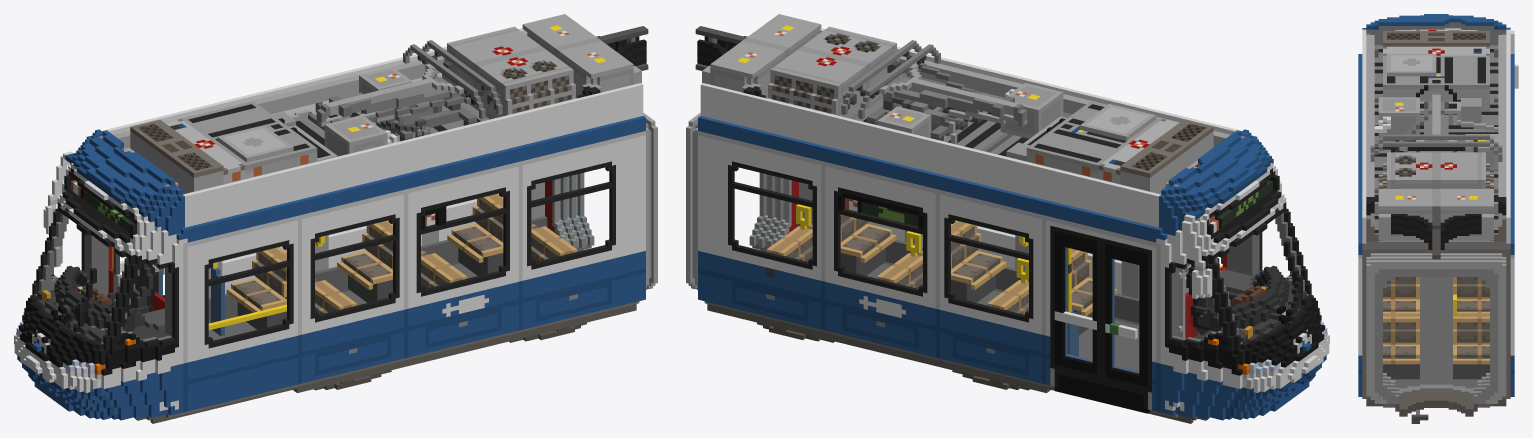
Rendered from cobra1.obj.
The picture shows the model from 3 angles, left to right: view 1: azimuth 30°, elevation 25°; view 2: azimuth 150°, elevation 25°; view 3: azimuth 270°, elevation 25°; orthographic projection. The views are drawn at different scales.
Visible parts, largest first — view 1: FRAME, INTERIOR_LCG_il_LINVERT_GLOBAL, WIDGET_31_TL_1.9375_Y_CG_panto_LABEL_Pantograph, WIDGET_32_TL_1.9375_Y_CG_panto_LABEL_Pantograph, WIDGET_34_CG_panto_LABEL_Pantograph, WIDGET_33_TL_1.9375_Y_CG_panto_LABEL_Pantograph, WIDGET_3_TL_-0.25_Z_LABEL_Mirror, display_3_INTERIOR; view 2: FRAME, INTERIOR_LCG_il_LINVERT_GLOBAL, DOOR_12_CG_d1_TL_0.625_X_TL_-0.1875_Z, DOOR_11_CG_d1_TL_-0.625_X_TL_-0.1875_Z, WIDGET_31_TL_1.9375_Y_CG_panto_LABEL_Pantograph, WIDGET_11_CG_d1, WIDGET_32_TL_1.9375_Y_CG_panto_LABEL_Pantograph, WIDGET_34_CG_panto_LABEL_Pantograph, WIDGET_3_TL_-0.25_Z_LABEL_Mirror, display_3_INTERIOR, display_INTERIOR; view 3: FRAME, INTERIOR_LCG_il_LINVERT_GLOBAL, WIDGET_31_TL_1.9375_Y_CG_panto_LABEL_Pantograph, WIDGET_34_CG_panto_LABEL_Pantograph, WIDGET_32_TL_1.9375_Y_CG_panto_LABEL_Pantograph, WIDGET_3_TL_-0.25_Z_LABEL_Mirror, WIDGET_33_TL_1.9375_Y_CG_panto_LABEL_Pantograph, WIDGET_32_ROT_35_LABEL_Pantograph_invisible.
Boxes of the visible parts, bbox=[...] form: FRAME: bbox=[14, 14, 657, 423]; INTERIOR_LCG_il_LINVERT_GLOBAL: bbox=[35, 172, 594, 344]; WIDGET_31_TL_1.9375_Y_CG_panto_LABEL_Pantograph: bbox=[403, 40, 502, 119]; WIDGET_32_TL_1.9375_Y_CG_panto_LABEL_Pantograph: bbox=[316, 62, 465, 124]; WIDGET_34_CG_panto_LABEL_Pantograph: bbox=[329, 82, 449, 117]; WIDGET_33_TL_1.9375_Y_CG_panto_LABEL_Pantograph: bbox=[330, 96, 470, 122]; WIDGET_3_TL_-0.25_Z_LABEL_Mirror: bbox=[43, 151, 73, 234]; display_3_INTERIOR: bbox=[71, 180, 134, 233]; FRAME: bbox=[686, 14, 1329, 423]; INTERIOR_LCG_il_LINVERT_GLOBAL: bbox=[749, 172, 1308, 371]; DOOR_12_CG_d1_TL_0.625_X_TL_-0.1875_Z: bbox=[1050, 226, 1101, 379]; DOOR_11_CG_d1_TL_-0.625_X_TL_-0.1875_Z: bbox=[1101, 238, 1151, 392]; WIDGET_31_TL_1.9375_Y_CG_panto_LABEL_Pantograph: bbox=[841, 40, 940, 119]; WIDGET_11_CG_d1: bbox=[1054, 369, 1147, 409]; WIDGET_32_TL_1.9375_Y_CG_panto_LABEL_Pantograph: bbox=[878, 62, 1027, 126]; WIDGET_34_CG_panto_LABEL_Pantograph: bbox=[894, 82, 1014, 117]; WIDGET_3_TL_-0.25_Z_LABEL_Mirror: bbox=[1182, 214, 1212, 299]; display_3_INTERIOR: bbox=[1209, 180, 1272, 233]; display_INTERIOR: bbox=[845, 198, 918, 226]; FRAME: bbox=[1358, 14, 1514, 423]; INTERIOR_LCG_il_LINVERT_GLOBAL: bbox=[1374, 269, 1498, 403]; WIDGET_31_TL_1.9375_Y_CG_panto_LABEL_Pantograph: bbox=[1370, 134, 1502, 161]; WIDGET_34_CG_panto_LABEL_Pantograph: bbox=[1424, 98, 1448, 134]; WIDGET_32_TL_1.9375_Y_CG_panto_LABEL_Pantograph: bbox=[1399, 93, 1473, 150]; WIDGET_3_TL_-0.25_Z_LABEL_Mirror: bbox=[1506, 27, 1518, 88]; WIDGET_33_TL_1.9375_Y_CG_panto_LABEL_Pantograph: bbox=[1399, 109, 1428, 141]; WIDGET_32_ROT_35_LABEL_Pantograph_invisible: bbox=[1407, 147, 1465, 150].
Size of the model in its own units: 9.06 by 3.75 by 2.44.
Materials: 1 (1 with a texture image).
